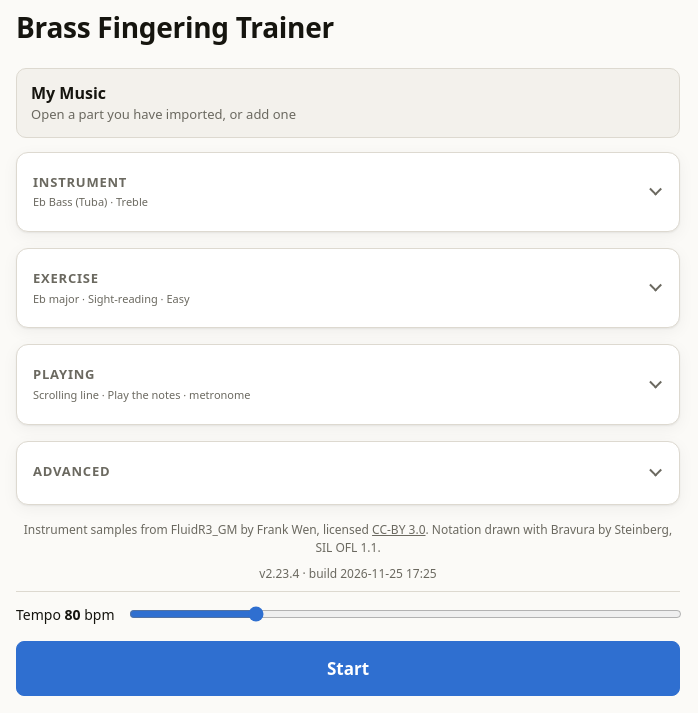
the app › starts an exercise and shows the valve pad
Click the button "Start": (348, 668) [16,641,680,696]
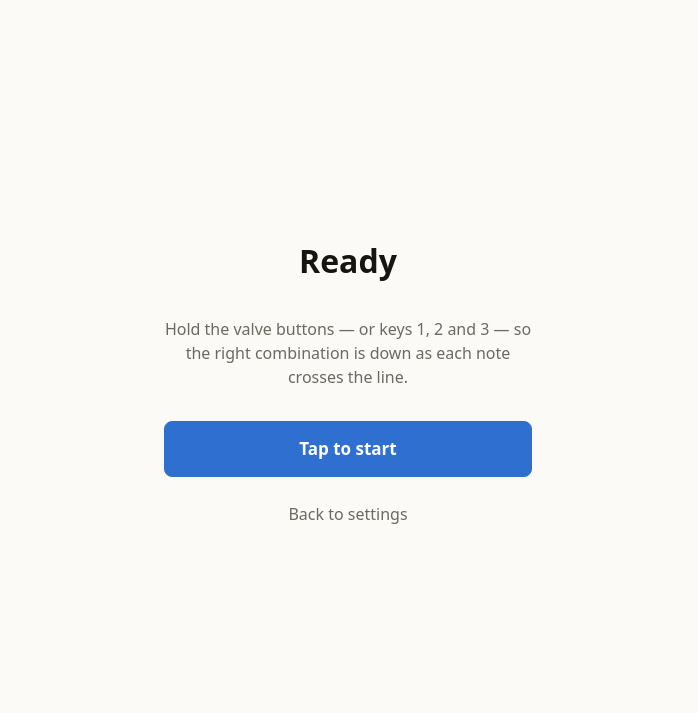
expect the button "Tap to start" is shown: met, box [164,421,532,477]
